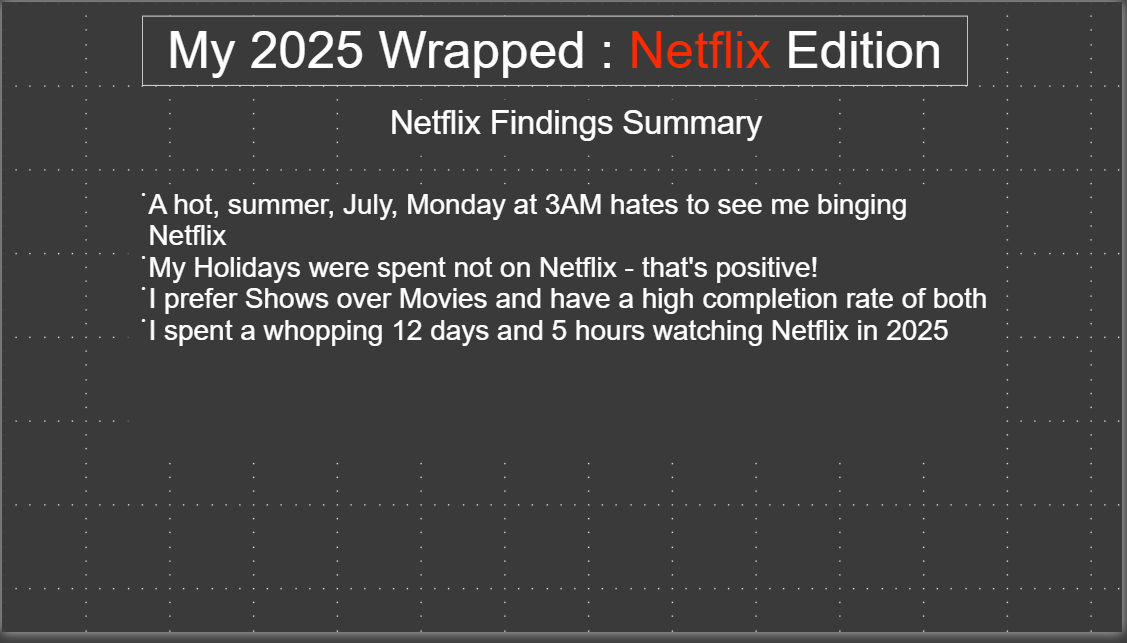

This screenshot's page, from the dashboard's own definition file:
{"tool":"powerbi","page":{"name":"Summary","canvas":[1280,720],"ordinal":3},"visuals":[{"type":"textbox","box":[160,16,944,80],"z":0},{"type":"textbox","box":[400,112,512,64],"z":1},{"type":"textbox","box":[144,208,992,304],"z":2}]}

Visuals, with their boxes in screenshot pixels (x1, y1, x2, y2), scaled from the page's 1280x720 canvas onto the 1127x643 screenshot:
textbox: [141,14,972,86]
textbox: [352,100,803,157]
textbox: [127,186,1000,457]
